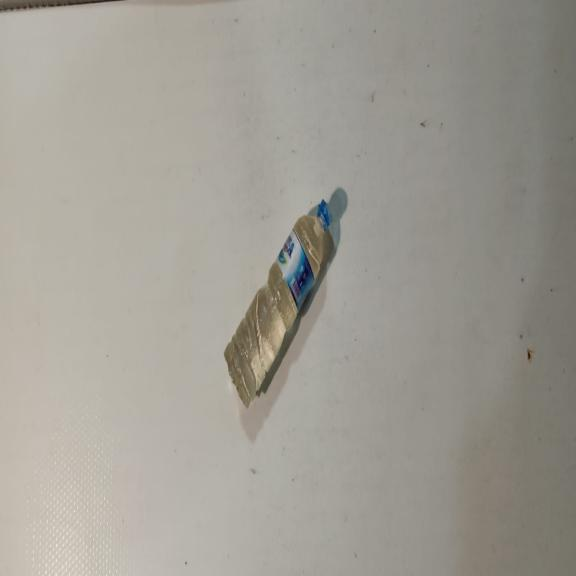Plastik: (224, 197, 332, 408)
